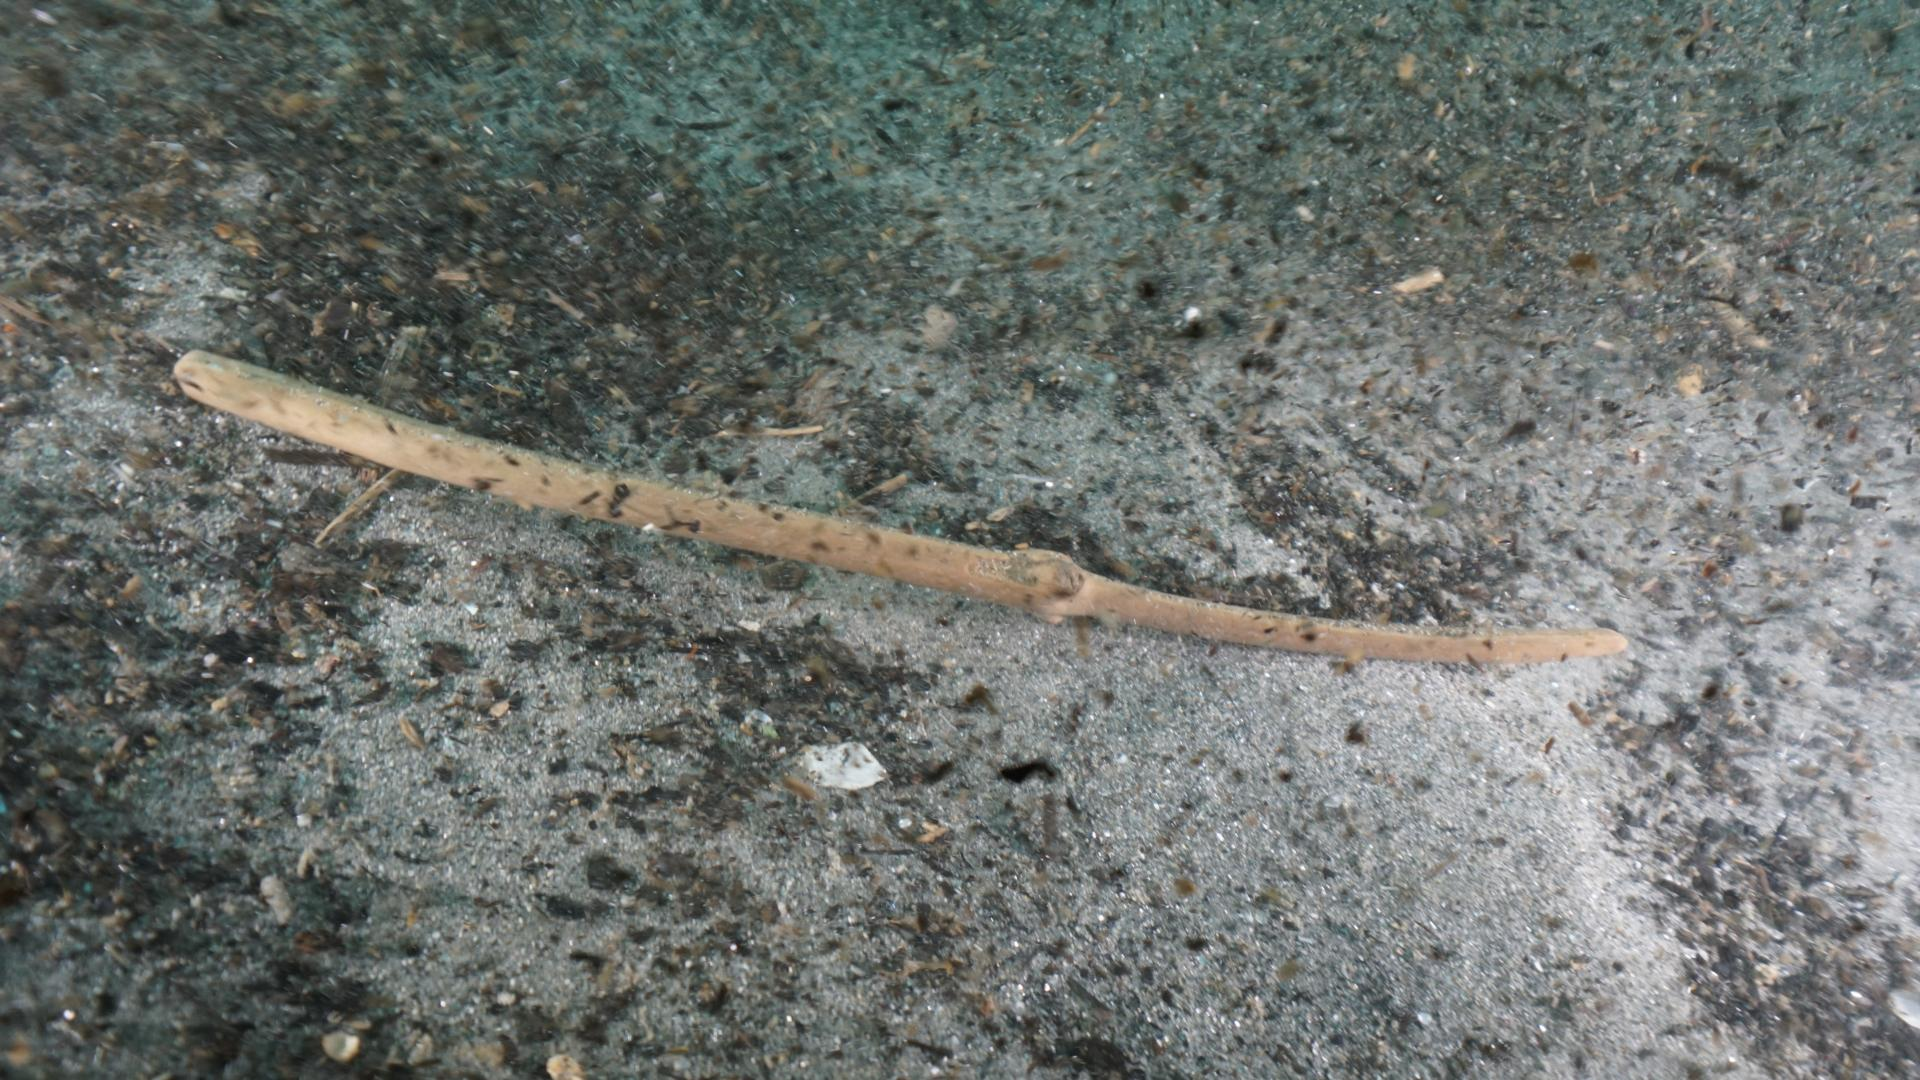wood: (167, 347, 1625, 661)
